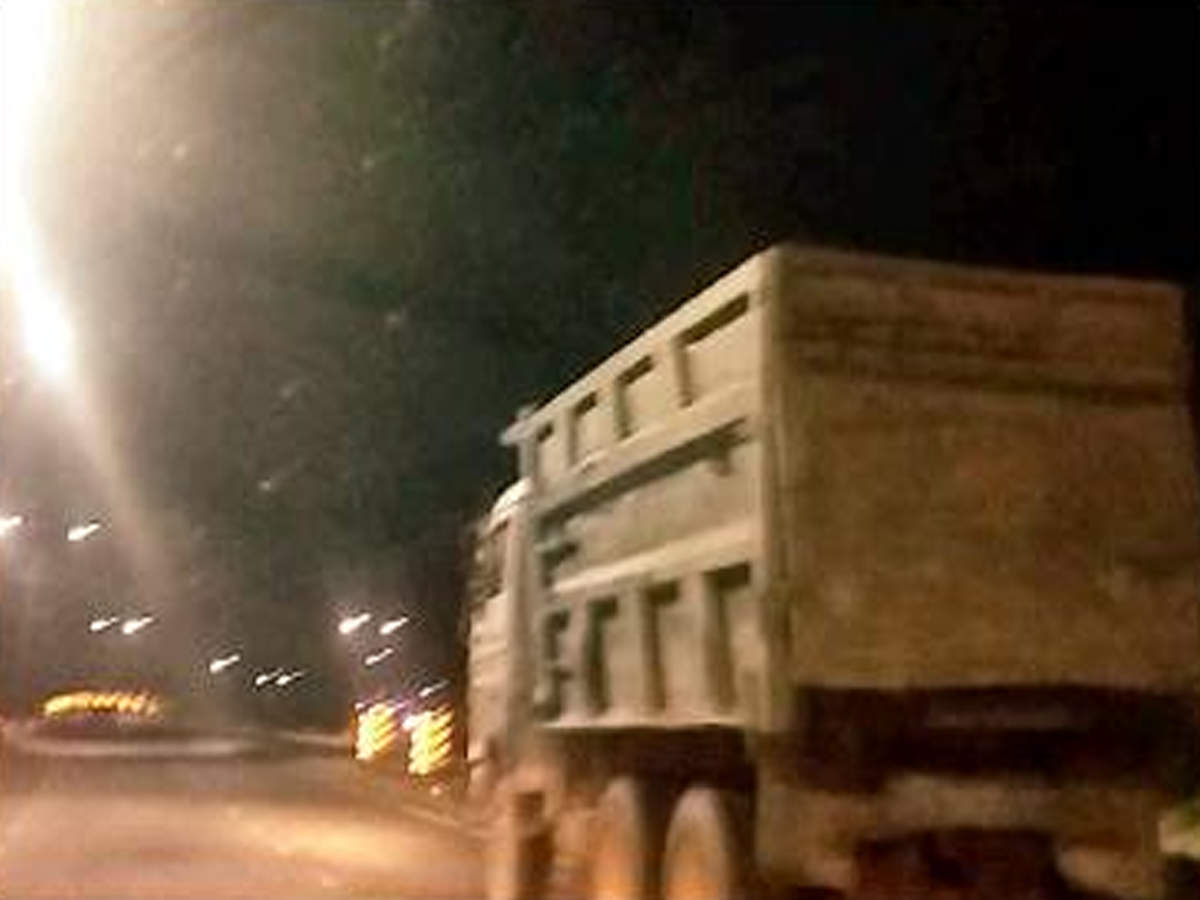truck: (470, 248, 1191, 900)
